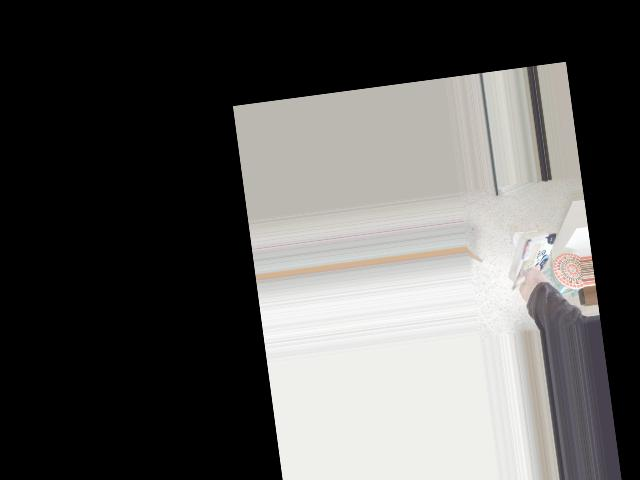cheese: (496, 225, 574, 304)
